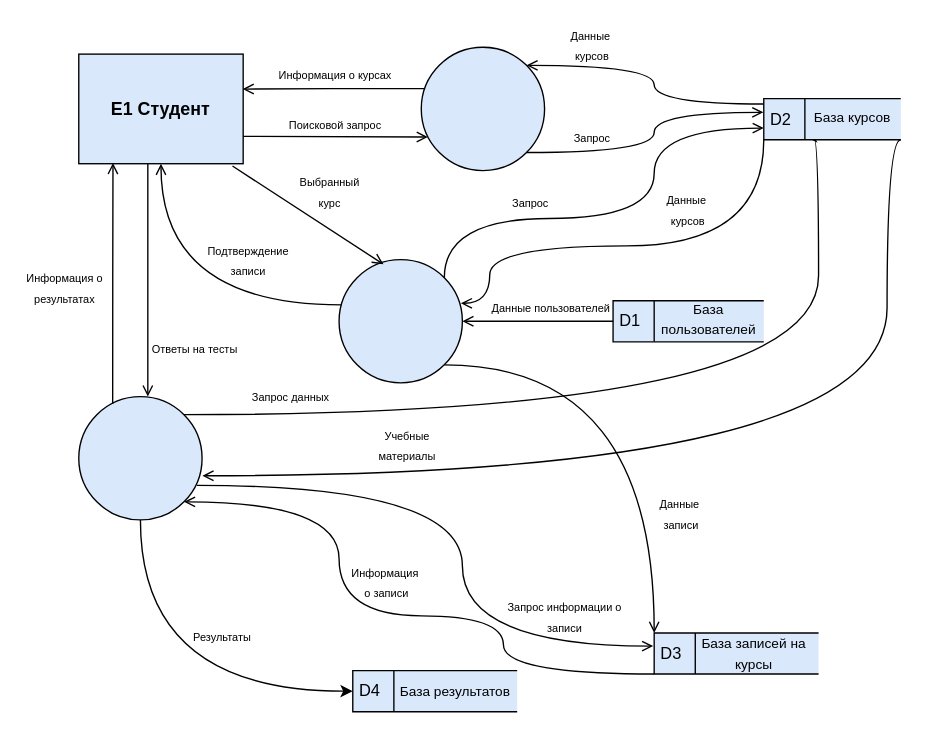
This 944x736 diagram has some shape labels left out. The shapes that lost their labels are listed below. From the top down, each one's centre as x and y in pixels, then its label:
(x=482, y=108): 1. Поиск курса
(x=400, y=320): 2. Запись на курс
(x=139, y=457): 3. Прохождение и оценка курса
